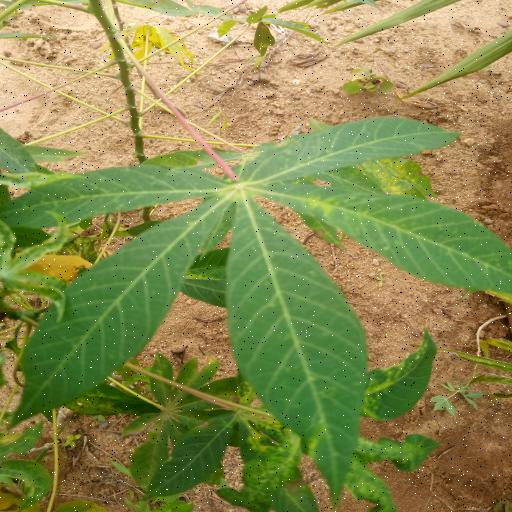Cassava_Mosaic: (0, 117, 512, 490)
